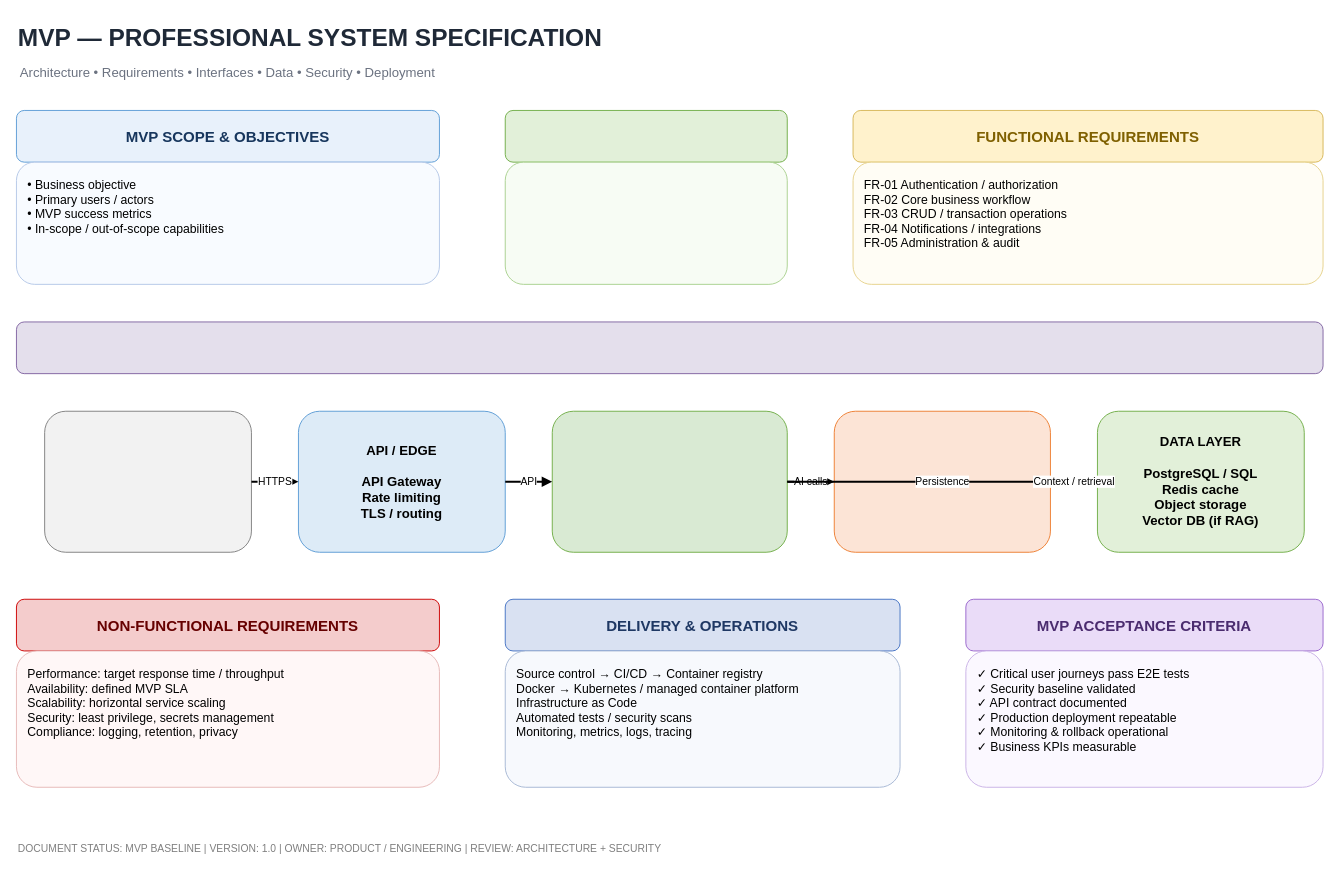
This 1340x878 diagram has some shape labels left out. The shapes that lost their labels are listed below. From the top down, each one's box as (x1, y1, x2, y2) in pixels, then its label:
(504, 110, 787, 162): USERS & ACTORS
(504, 161, 787, 284): Customer / End User Administrator Operations / Support External Systems
(16, 321, 1323, 374): MVP REFERENCE ARCHITECTURE
(44, 410, 251, 552): CLIENT / UX Web / Mobile Responsive UI API client
(551, 410, 787, 552): APPLICATION SERVICES REST / GraphQL Business logic Validation Domain services
(833, 410, 1050, 552): AI / AGENTS (OPTIONAL) LLM RAG Tools / MCP Guardrails
